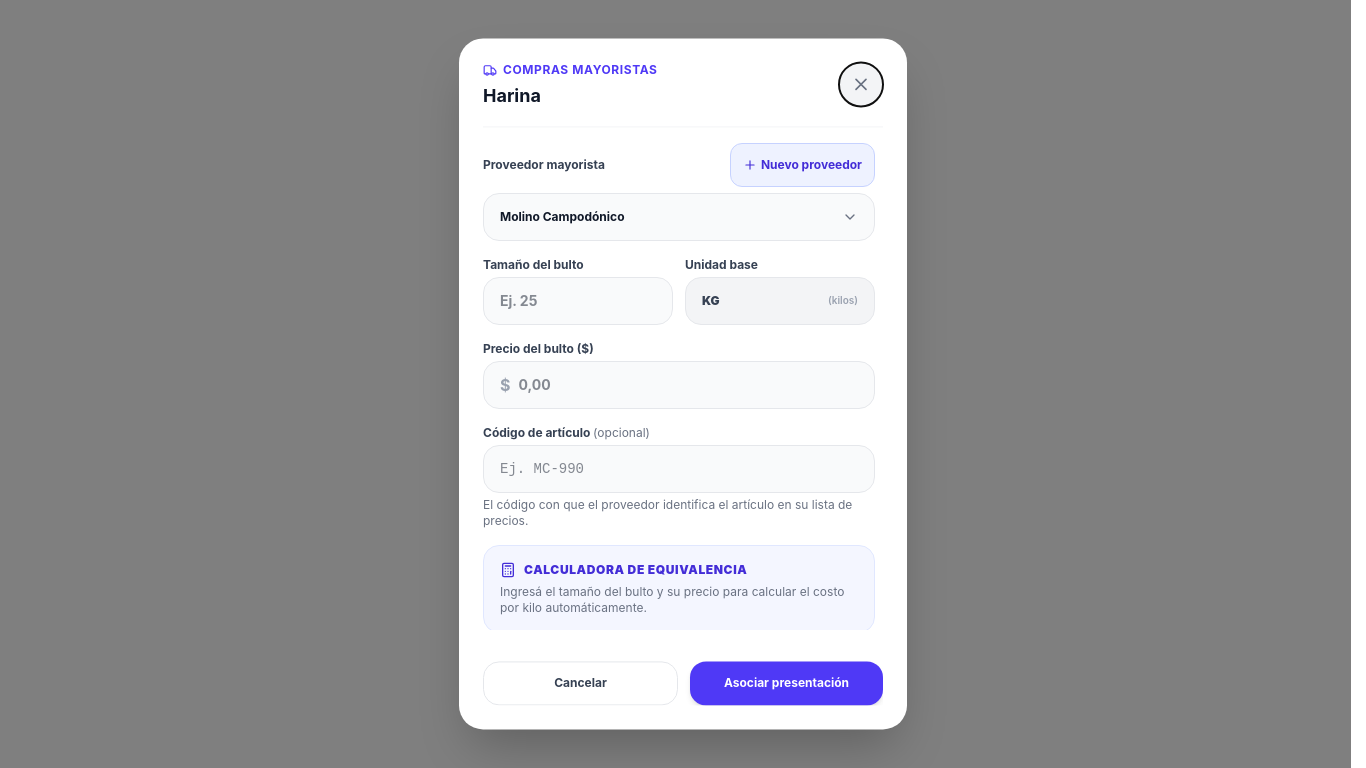
SupplierPackagingModal › retoques visuales (#362) › el proveedor dado de alta rápido queda elegido en el desplegable
The width and height of the screenshot is (1366, 768).
Click the button "Nuevo proveedor": (802, 165) [730, 143, 875, 187]
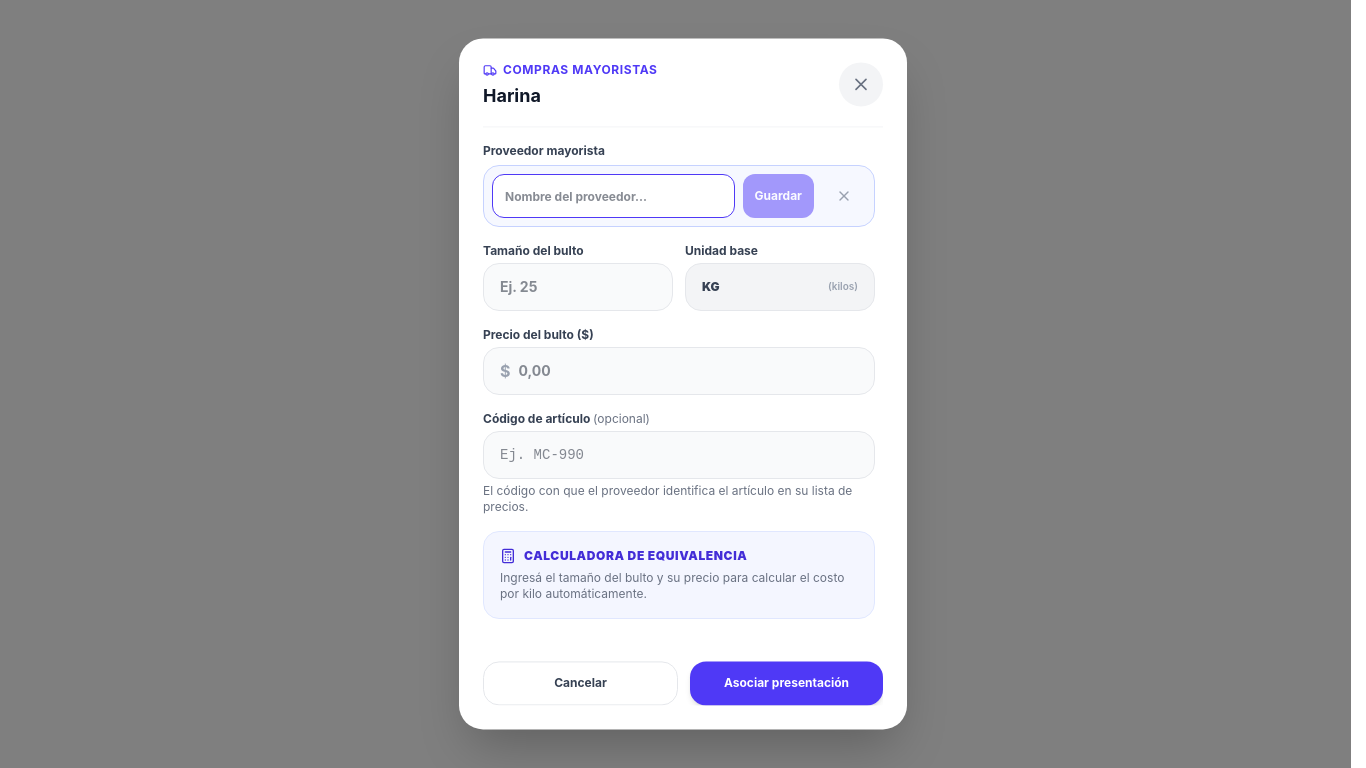
In the field with placeholder "Nombre del proveedor...": (613, 196) [492, 174, 734, 218], type "Distribuidora La Espiga"
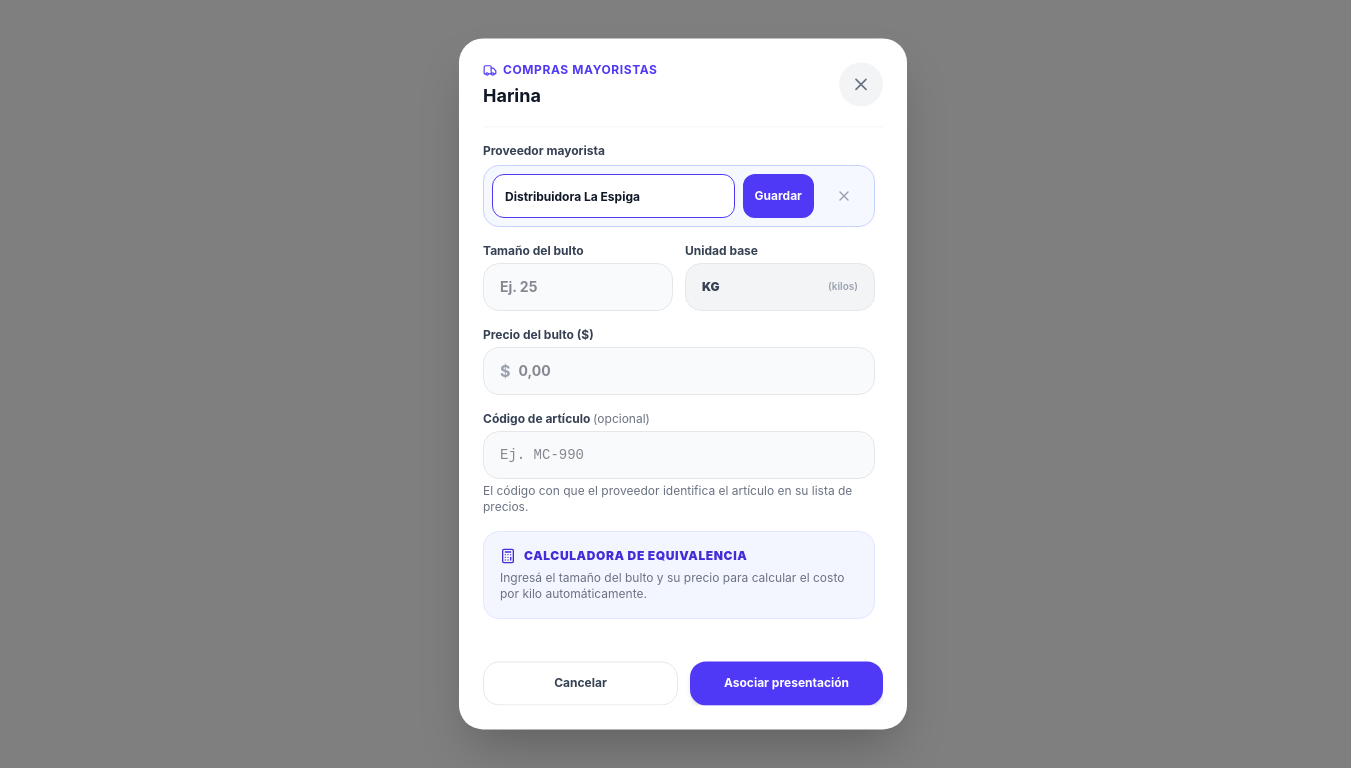
Click the button "Guardar": (778, 196) [742, 174, 814, 218]
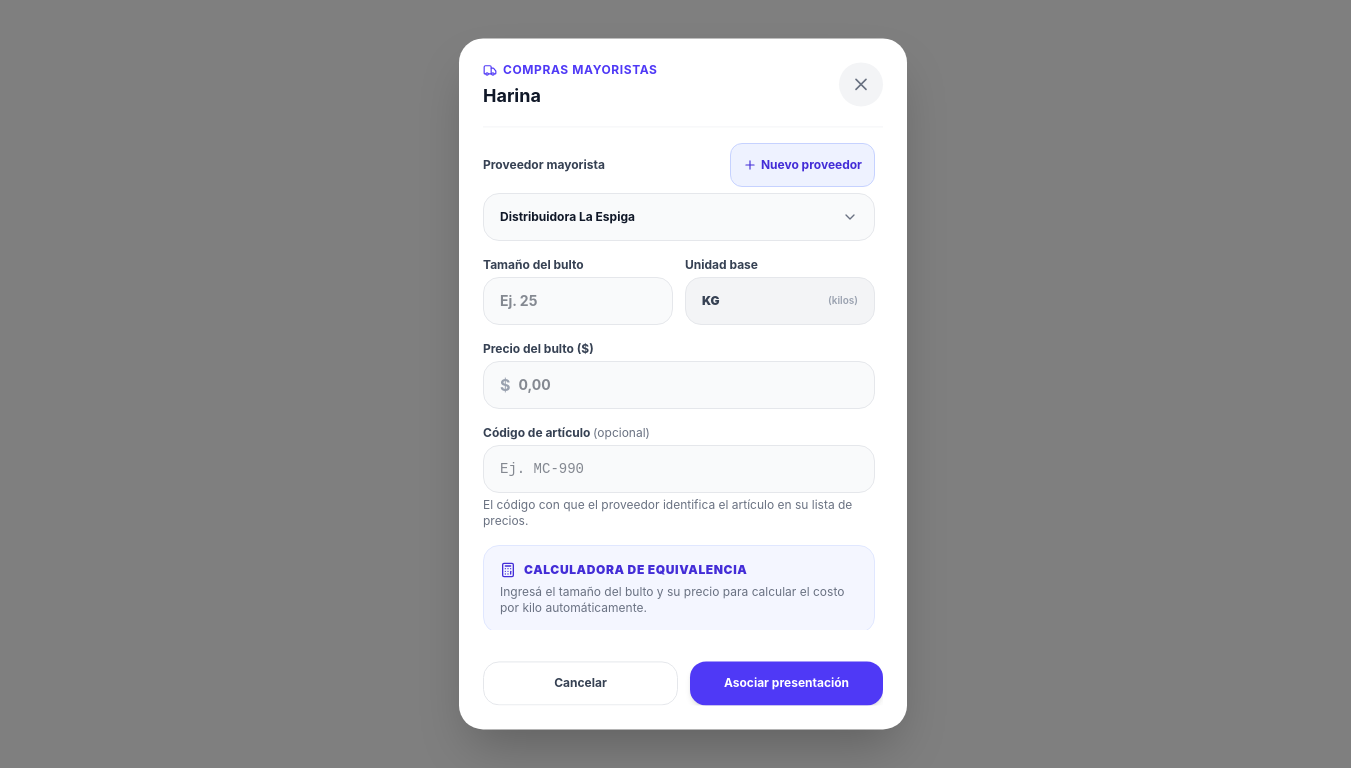
Result: the dropdown named "Proveedor mayorista" reads "Distribuidora La Espiga" at [483, 193, 875, 241]
